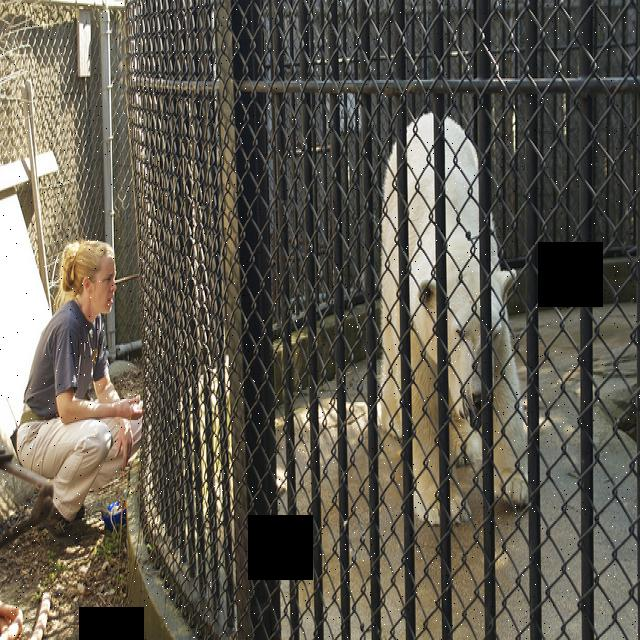Bear: (369, 114, 539, 533)
